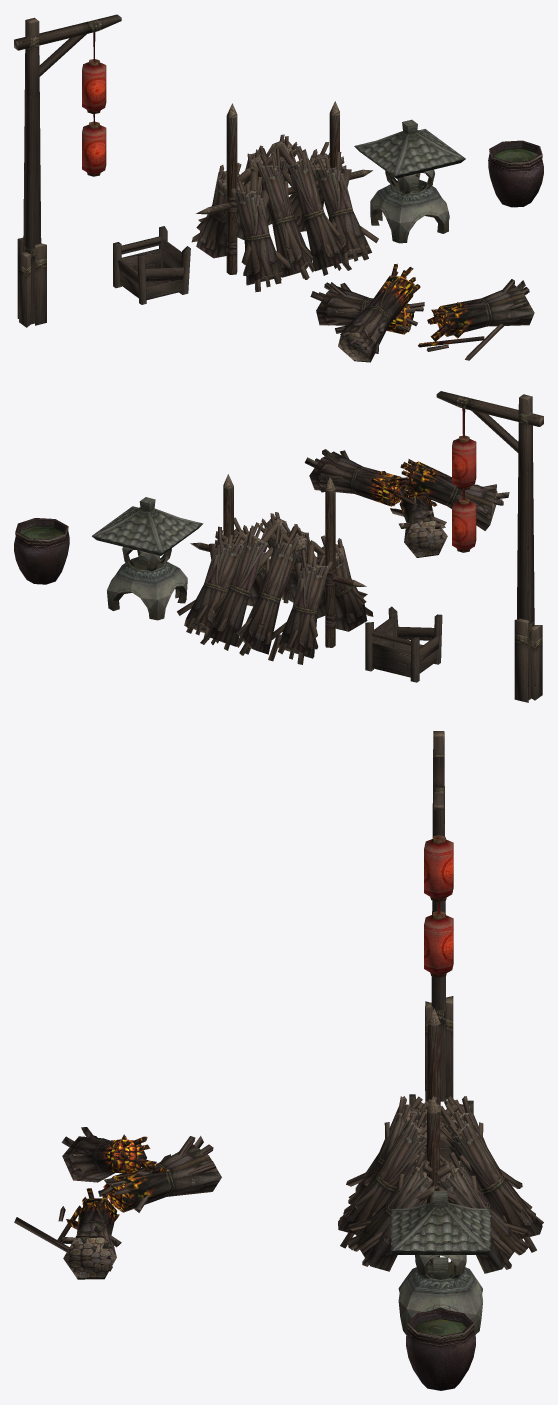
The model's file is s7_xiaoxuevol1.FBX.
3 views of the same model, one above another, from view 1: azimuth 30°, elevation 25°; view 2: azimuth 150°, elevation 25°; view 3: azimuth 270°, elevation 25° (orthographic). The views are drawn at different scales.
Visible parts, largest first — view 1: s7_chaidui, s7_xiaoxue_denglong, s7_chaiduifire, s7_foqiang, s7_poxiangzi, s7_shuigang; view 2: s7_chaidui, s7_xiaoxue_denglong, s7_chaiduifire, s7_foqiang, s7_poxiangzi, s7_shuigang; view 3: s7_chaidui, s7_chaiduifire, s7_foqiang, s7_xiaoxue_denglong, s7_shuigang.
Boxes of the visible parts, x1,y1,x2,y2 form: s7_chaidui: (191, 101, 378, 292); s7_xiaoxue_denglong: (14, 14, 121, 327); s7_chaiduifire: (310, 263, 534, 362); s7_foqiang: (354, 119, 465, 243); s7_poxiangzi: (113, 226, 190, 304); s7_shuigang: (488, 140, 543, 207); s7_chaidui: (177, 474, 373, 664); s7_xiaoxue_denglong: (436, 391, 543, 702); s7_chaiduifire: (304, 449, 509, 557); s7_foqiang: (92, 497, 203, 620); s7_poxiangzi: (365, 606, 442, 682); s7_shuigang: (14, 518, 69, 584); s7_chaidui: (338, 1008, 543, 1273); s7_chaiduifire: (14, 1127, 221, 1279); s7_foqiang: (391, 1191, 490, 1334); s7_xiaoxue_denglong: (424, 731, 453, 1101); s7_shuigang: (406, 1309, 475, 1390).
Size of the model in its own units: 966 by 528 by 696.
